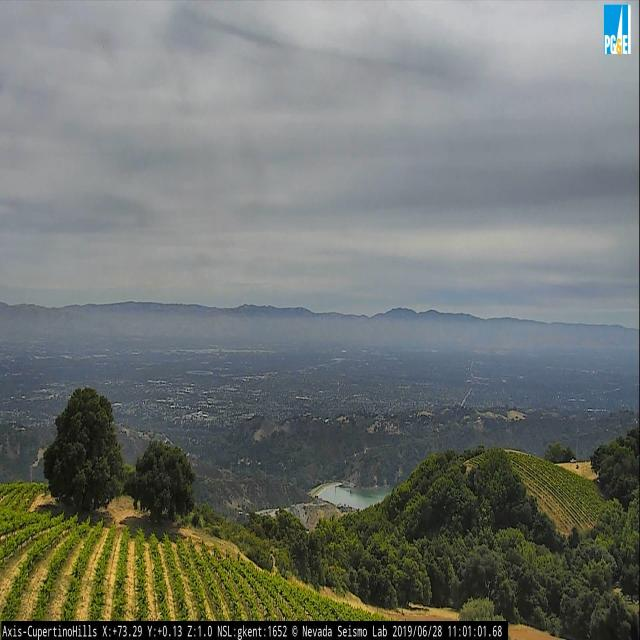smoke: (218, 346, 223, 360)
